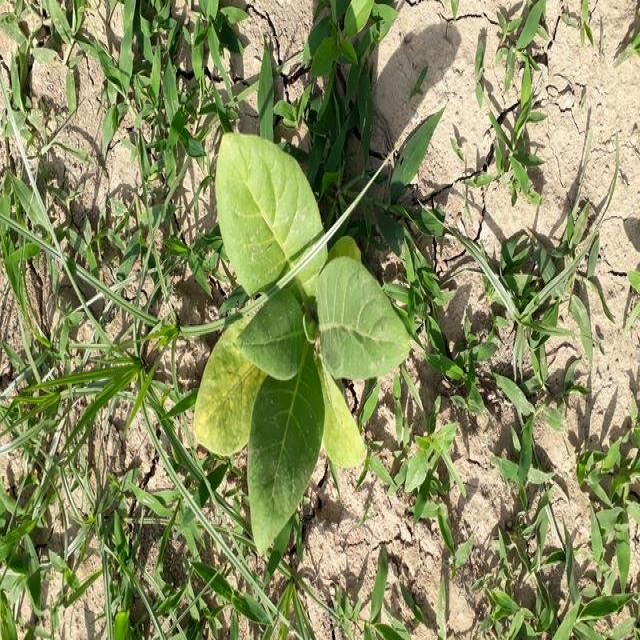crop: (192, 139, 410, 538)
